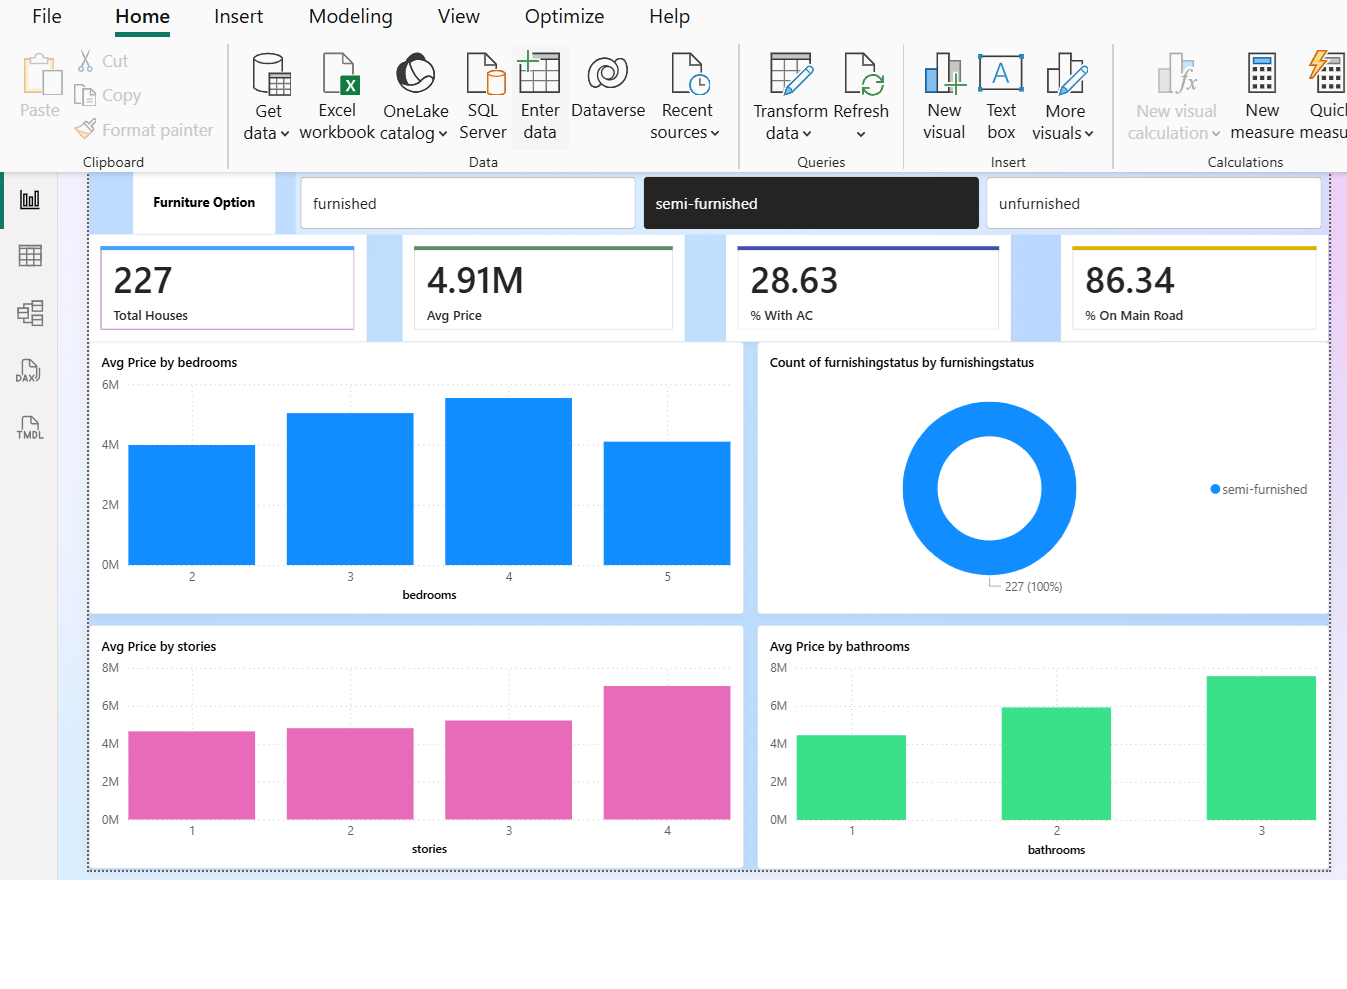

The page's visual inventory and layout, read from the dashboard file:
{"tool":"powerbi","page":{"name":"Page 1","canvas":[1280,720],"ordinal":0},"visuals":[{"type":"cardVisual","fields":{"Data":["Housing.Total Houses"]},"box":[0,64.9,286.3,110.7],"z":0},{"type":"cardVisual","fields":{"Data":["Housing.Avg Price"]},"box":[324.3,64.9,291.1,110.7],"z":1000},{"type":"cardVisual","fields":{"Data":["Housing.% With AC"]},"box":[658,64.9,294.2,110.7],"z":2000},{"type":"cardVisual","fields":{"Data":["Housing.% On Main Road"]},"box":[1002.9,64.9,276.8,110.7],"z":3000},{"type":"advancedSlicerVisual","fields":{"Values":["Housing.furnishingstatus"]},"box":[213.3,0,1066.4,64.7],"z":4000},{"type":"textbox","box":[45.9,0,146.7,64.2],"z":5000},{"type":"clusteredColumnChart","fields":{"Y":["Housing.Avg Price"],"Category":["Housing.bedrooms"]},"box":[0,175.6,675.4,281.6],"z":6000},{"type":"donutChart","fields":{"Category":["Housing.furnishingstatus"],"Y":["CountNonNull(Housing.furnishingstatus)"]},"box":[689.7,175.6,590,281.6],"z":7000},{"type":"clusteredColumnChart","fields":{"Category":["Housing.stories"],"Y":["Housing.Avg Price"]},"box":[0,468.2,675.4,251.5],"z":8000},{"type":"clusteredColumnChart","fields":{"Category":["Housing.bathrooms"],"Y":["Housing.Avg Price"]},"box":[690,468,590,252],"z":9000}]}

Visuals, with their boxes on the page's 1280x720 design canvas (x1, y1, x2, y2). These are canvas units, not pixel positions in the 1347x989 screenshot, which may show the page scaled, cropped or inside an application window:
cardVisual - Housing.Total Houses: select_region(0, 65, 286, 176)
cardVisual - Housing.Avg Price: select_region(324, 65, 615, 176)
cardVisual - Housing.% With AC: select_region(658, 65, 952, 176)
cardVisual - Housing.% On Main Road: select_region(1003, 65, 1280, 176)
advancedSlicerVisual - Housing.furnishingstatus: select_region(213, 0, 1280, 65)
textbox: select_region(46, 0, 193, 64)
clusteredColumnChart - Housing.Avg Price x Housing.bedrooms: select_region(0, 176, 675, 457)
donutChart - Housing.furnishingstatus x CountNonNull(Housing.furnishingstatus): select_region(690, 176, 1280, 457)
clusteredColumnChart - Housing.stories x Housing.Avg Price: select_region(0, 468, 675, 720)
clusteredColumnChart - Housing.bathrooms x Housing.Avg Price: select_region(690, 468, 1280, 720)
